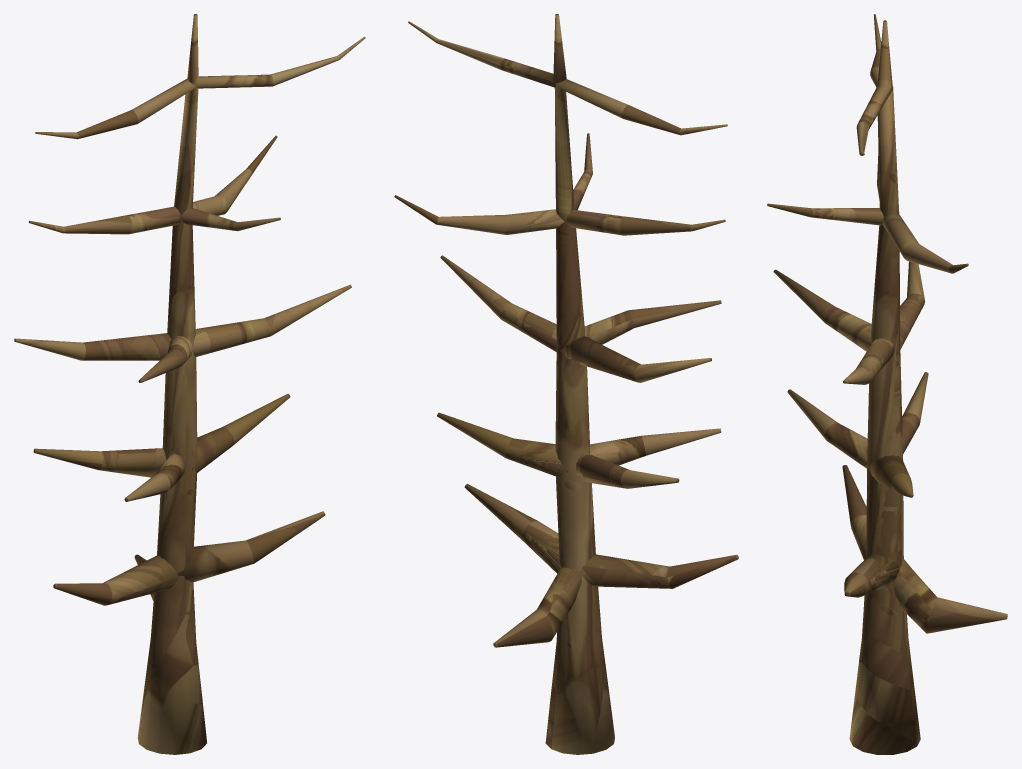
The model's file is Tree.fbx.
3 renders of one model, left to right at view 1: azimuth 30°, elevation 25°; view 2: azimuth 150°, elevation 25°; view 3: azimuth 270°, elevation 25°, orthographic.
Visible parts, largest first — view 1: Tree; view 2: Tree; view 3: Tree.
Part boxes in pixels (x1=…): Tree: x1=14, y1=14, x2=365, y2=754; Tree: x1=394, y1=14, x2=738, y2=754; Tree: x1=767, y1=14, x2=1007, y2=754.
Size of the model in its own units: 162 by 341 by 102.
